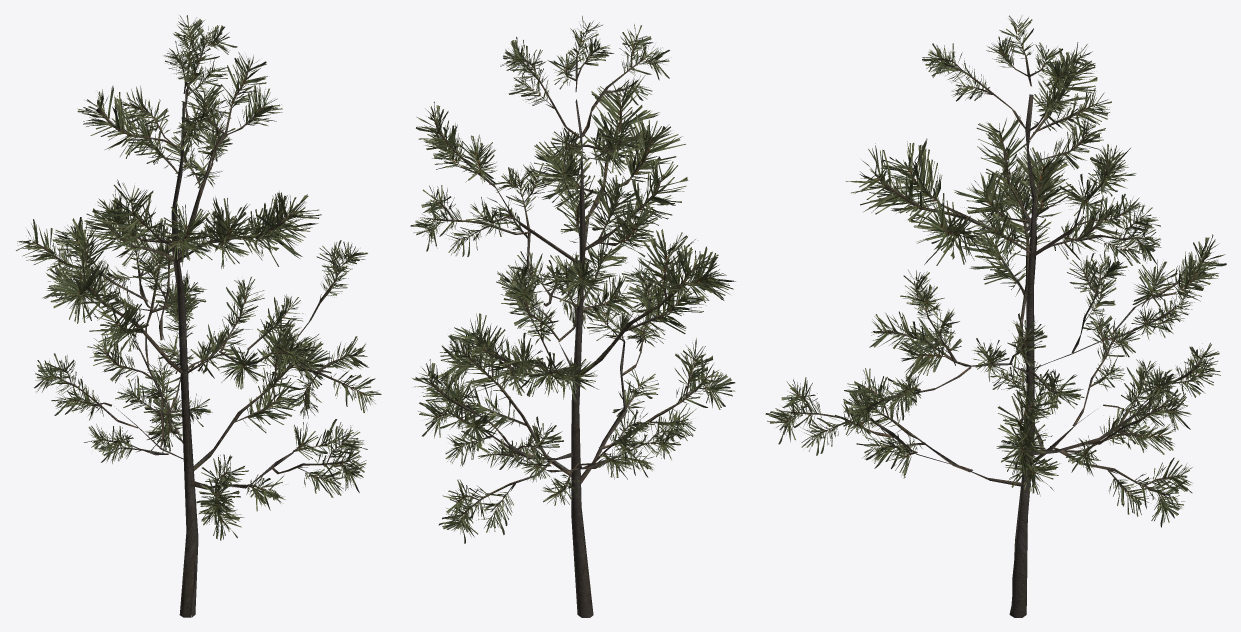
The model's file is distance.fbx.
The picture shows the model from 3 angles, left to right: view 1: azimuth 30°, elevation 25°; view 2: azimuth 150°, elevation 25°; view 3: azimuth 270°, elevation 25°; orthographic projection. The views are drawn at different scales.
Visible parts, largest first — view 1: pine_sapling_small_b; view 2: pine_sapling_small_b; view 3: pine_sapling_small_b.
Boxes of the visible parts, x1,y1,x2,y2 form: pine_sapling_small_b: (16, 15, 381, 617); pine_sapling_small_b: (410, 15, 735, 617); pine_sapling_small_b: (765, 15, 1226, 617).
Size of the model in its own units: 52.92 by 105 by 72.8.
